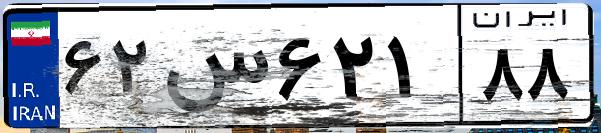1: (385, 28, 445, 110)
2: (330, 28, 385, 110), (110, 28, 158, 98)
6: (270, 28, 330, 110), (57, 26, 110, 100)
8: (475, 38, 525, 113), (525, 38, 570, 115)
س: (158, 20, 270, 120)
